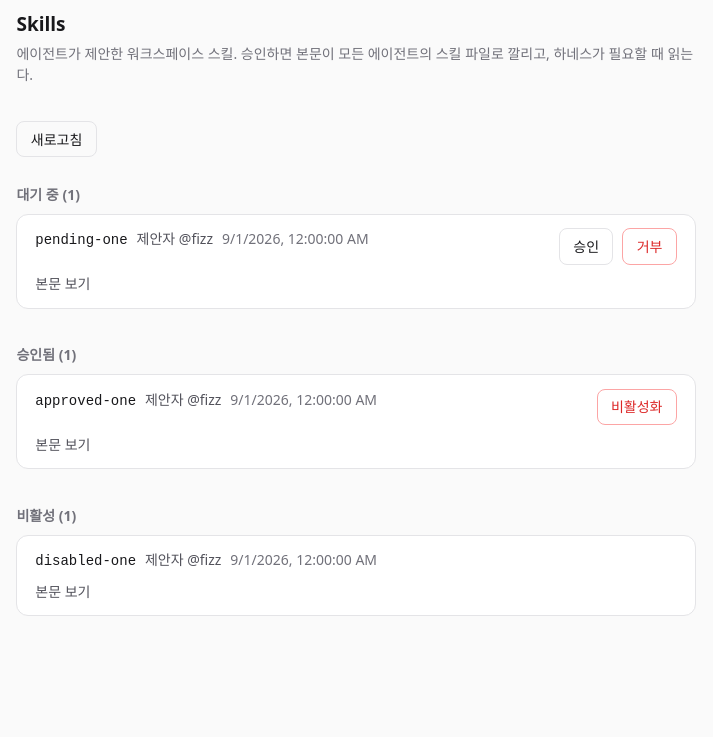
Test: 3. 승인은 확인을 거친다 — `window.confirm` 이 아니다 › 취소하면 확인이 닫히고 요청은 끝내 나가지 않는다
Expected: the text "pending-one" is shown, [35,232,128,248]
Click the button "승인".
click(586, 246)  # box [559,228,614,265]
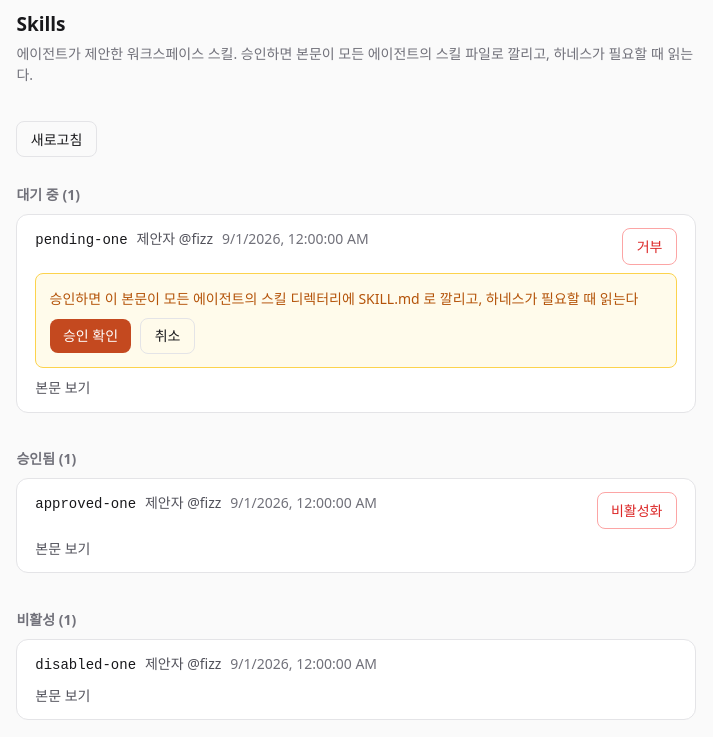
Click the button "취소".
click(168, 336)  # box [140,318,195,354]
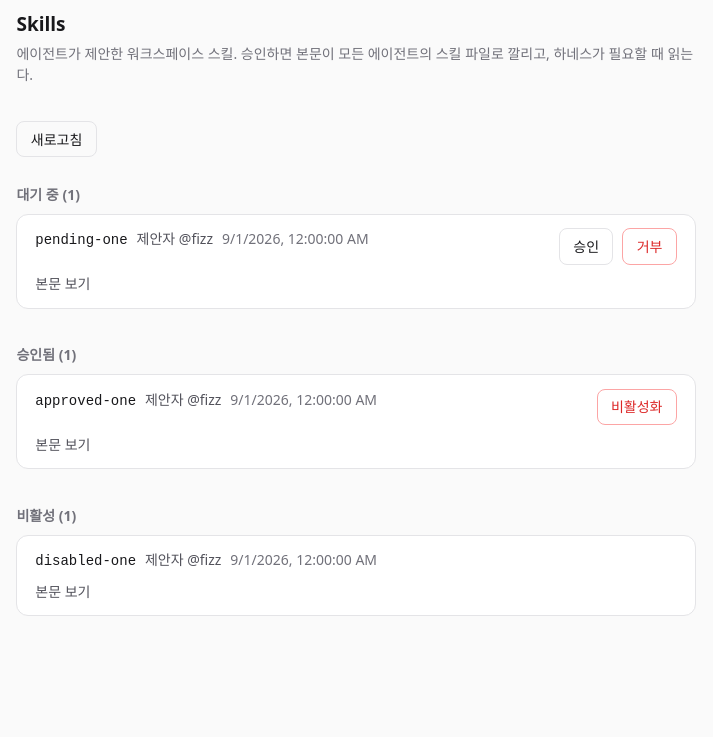
Expected: the text "승인하면 이 본문이 모든 에이전트의 스킬 디렉터리에 SKILL.md 로 깔리고, 하네스가 필요할 때 읽는다" is gone
